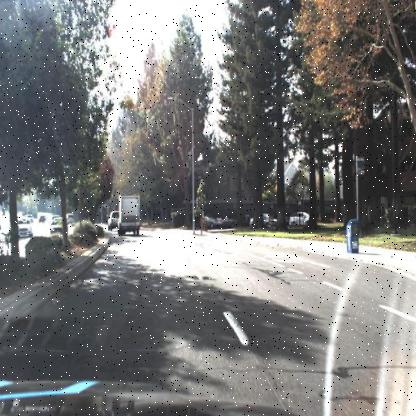car: (284, 206, 317, 229), (246, 210, 280, 231), (46, 214, 69, 244), (48, 214, 71, 238), (284, 209, 310, 230), (200, 209, 222, 233), (14, 216, 35, 240), (105, 207, 120, 233), (218, 208, 236, 229)
truck: (115, 191, 144, 237)
